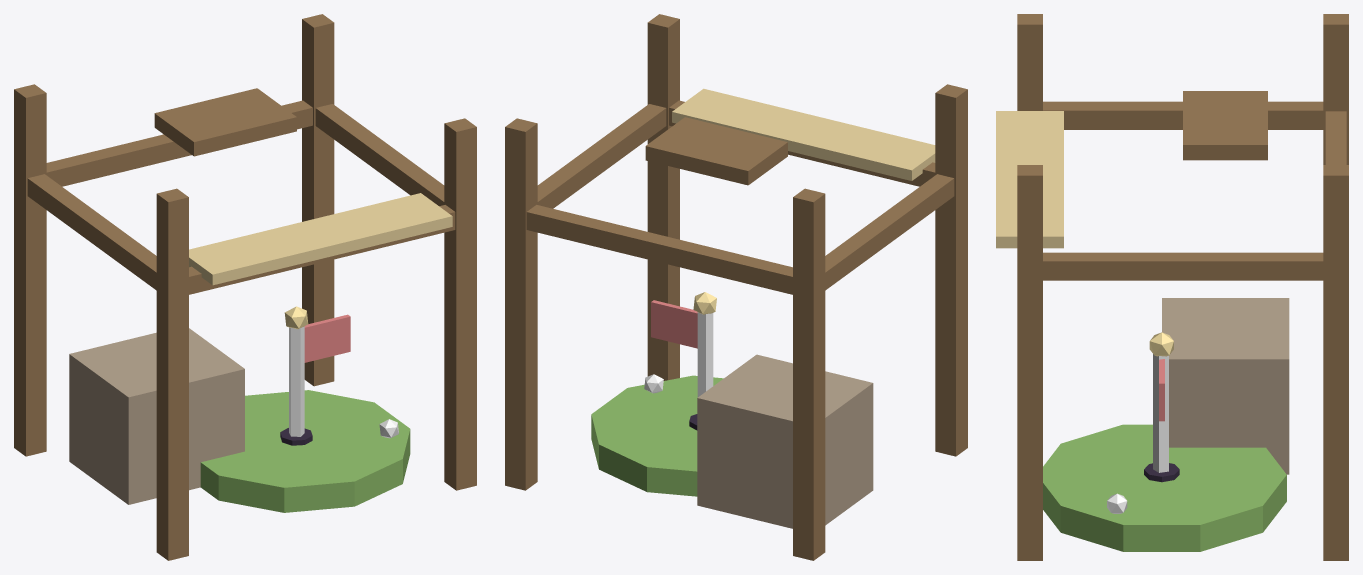
File: park-scaffold.glb
3 views of the same model, side by side, from view 1: azimuth 30°, elevation 25°; view 2: azimuth 150°, elevation 25°; view 3: azimuth 270°, elevation 25° (orthographic). The views are drawn at different scales.
Parts seen in each view (by area): view 1: park-scaffold; view 2: park-scaffold; view 3: park-scaffold.
Boxes of the visible parts, left/top/right/bottom form: park-scaffold: left=14, top=14, right=476, bottom=560; park-scaffold: left=505, top=14, right=967, bottom=560; park-scaffold: left=996, top=14, right=1348, bottom=560.
Size of the model in its own units: 0.9 by 1 by 0.83.
